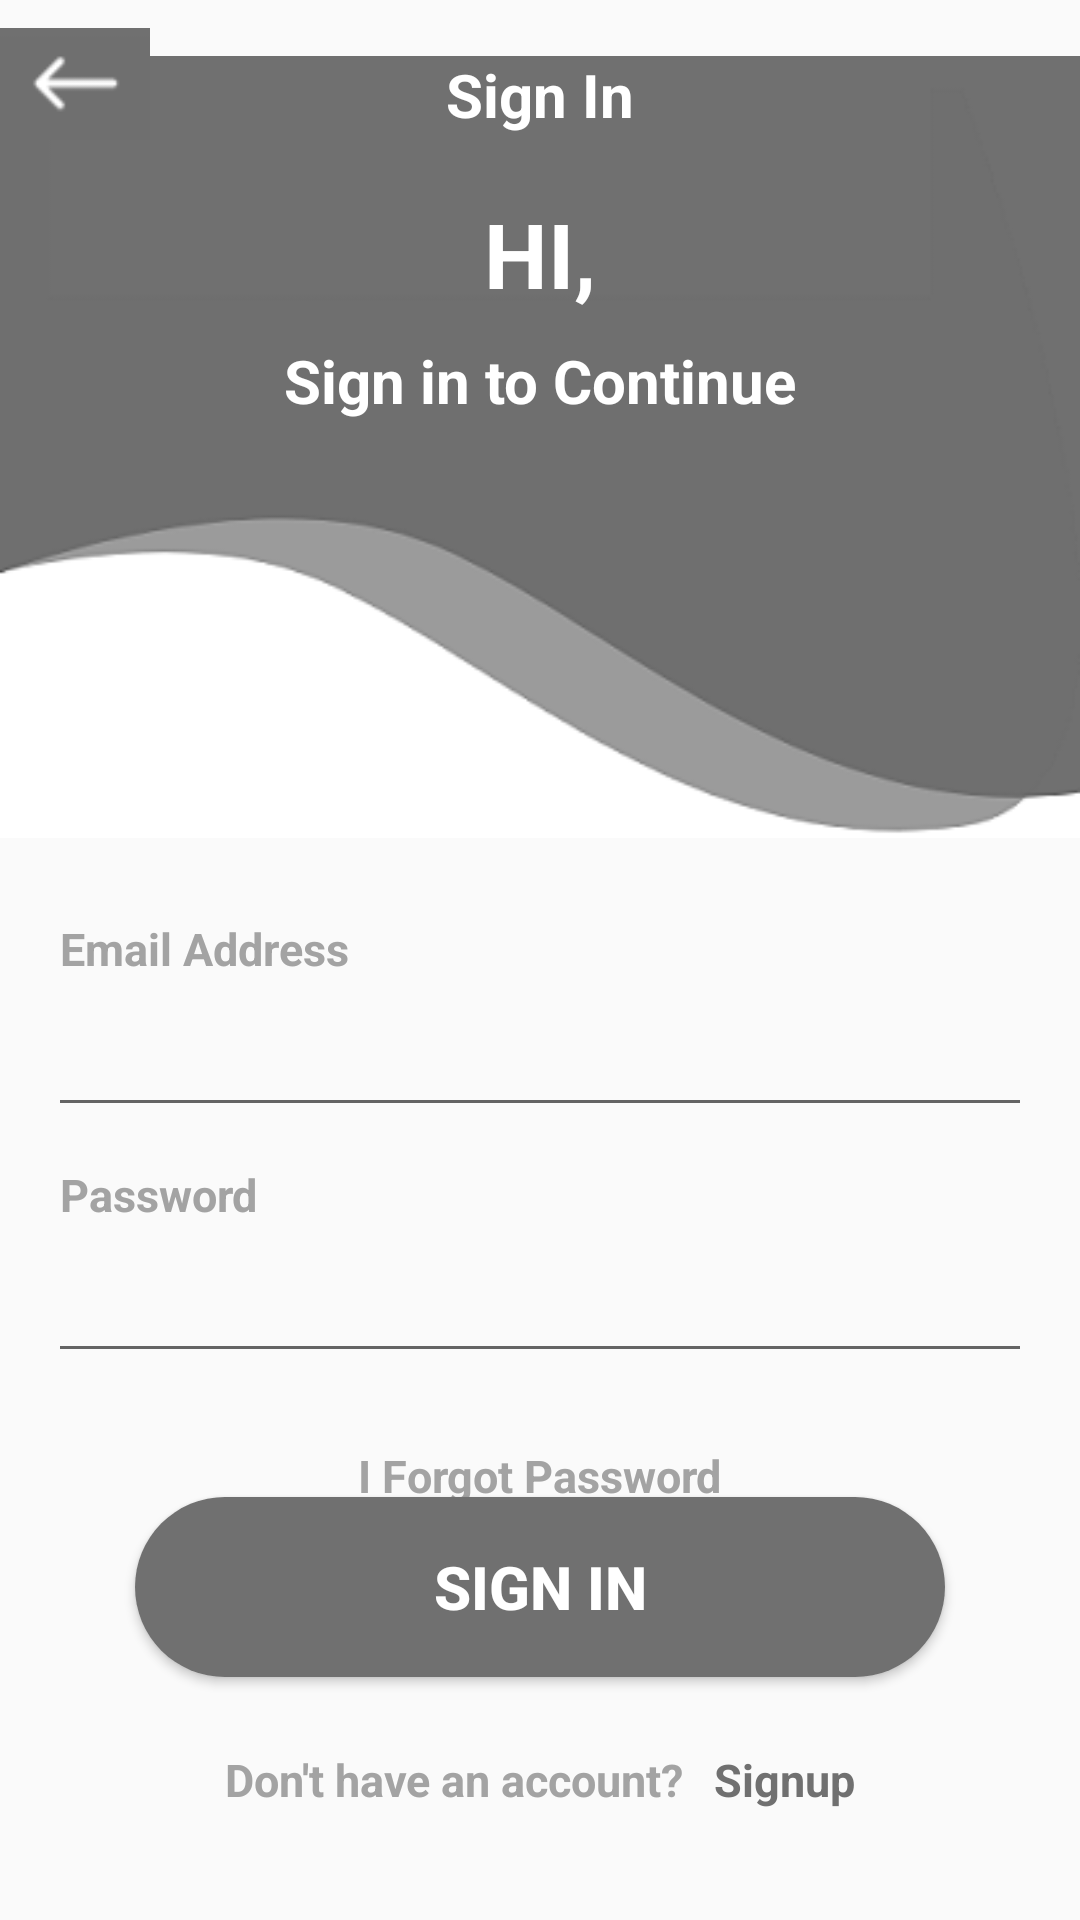

Screen size 1080px x 1920px. Icon name, then its center in pixels as point (x, y):
back: point (75, 84)
